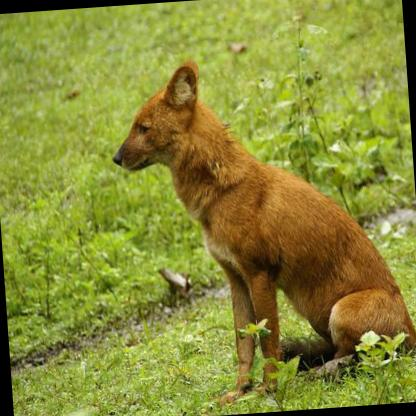dhole: (104, 43, 416, 409)
